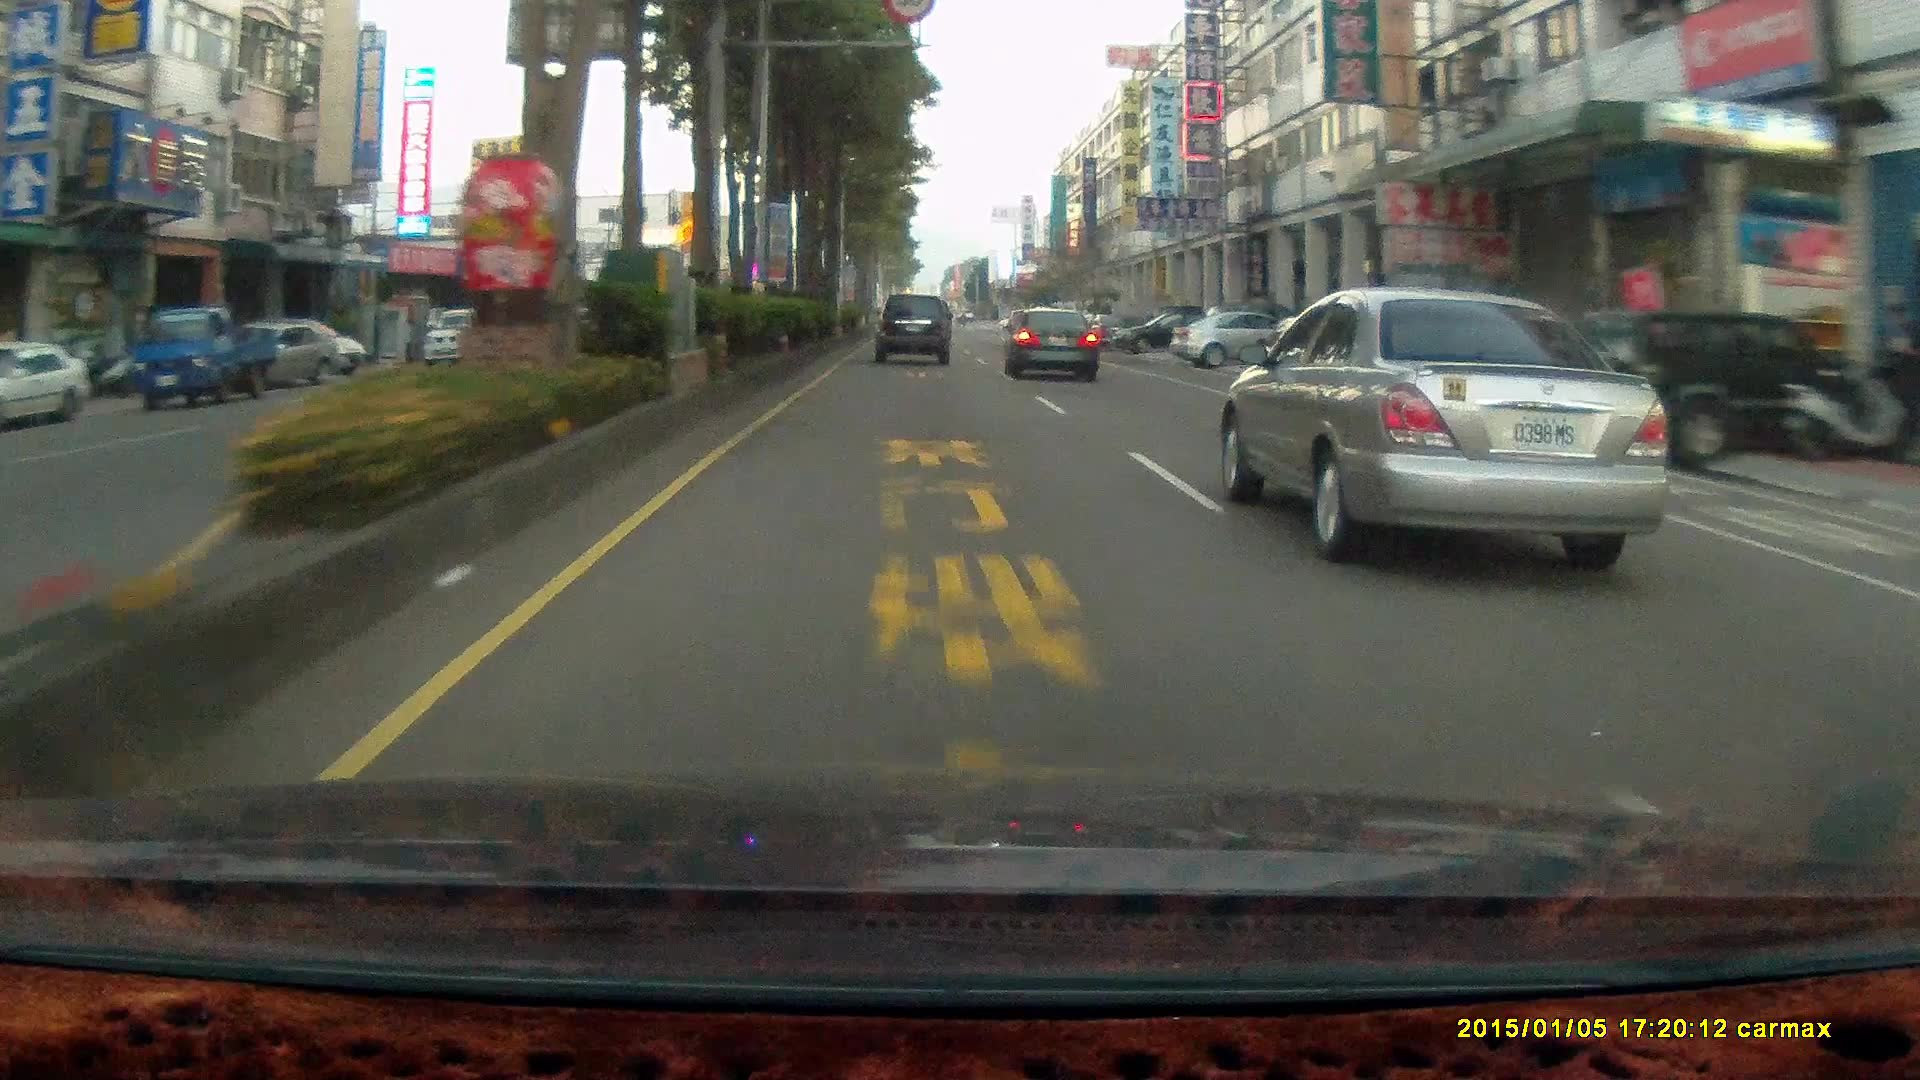vehicle: (1226, 286, 1695, 560), (1555, 305, 1846, 464), (1565, 307, 1849, 455), (124, 301, 274, 405), (131, 305, 284, 404), (1276, 311, 1411, 409), (1172, 305, 1321, 367), (204, 316, 339, 385), (0, 338, 90, 427), (1004, 302, 1101, 378), (1000, 306, 1098, 381), (873, 290, 955, 365), (872, 290, 953, 360), (1112, 307, 1222, 352), (421, 306, 500, 365)
